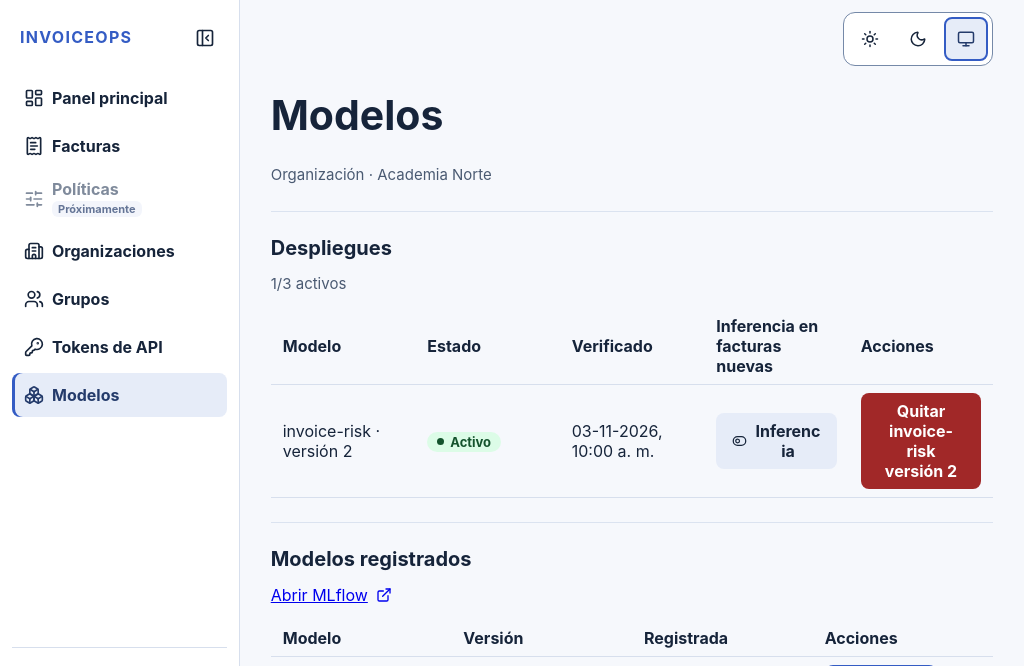
it: MLOPS-05 models and deployments › asks before removing a deployment and keeps it in the history
The image size is (1024, 666).
Expected: the heading "Modelos" is shown, [271,90,443,140]
Click the button "Quitar invoice-risk versión 2" at (921, 441), box [861,393,981,489]
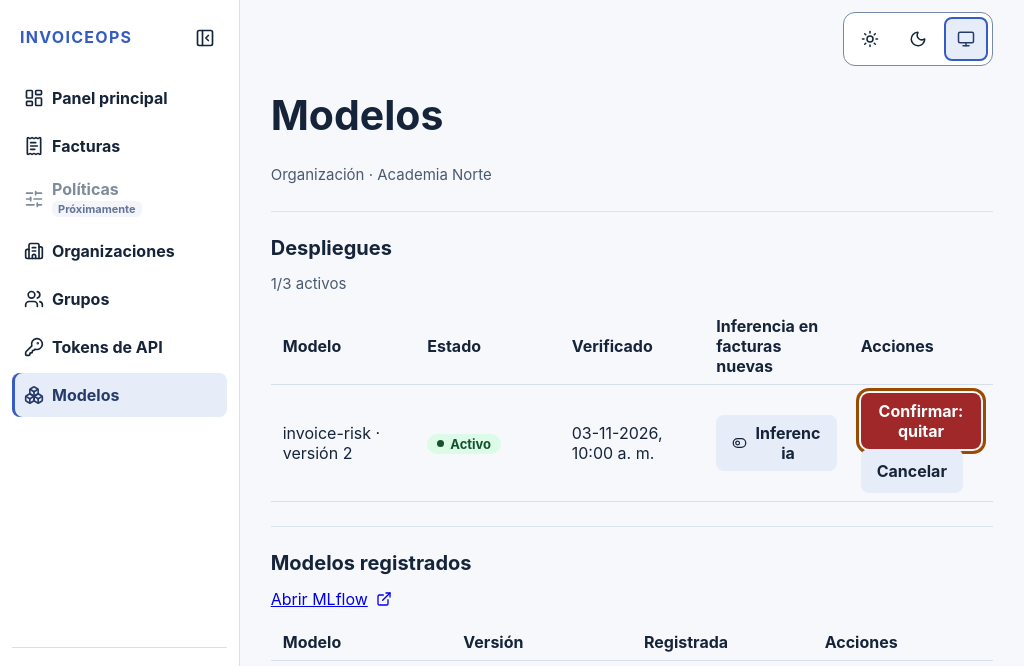
Click the button "Confirmar: quitar" at (921, 421), box [861,393,981,449]
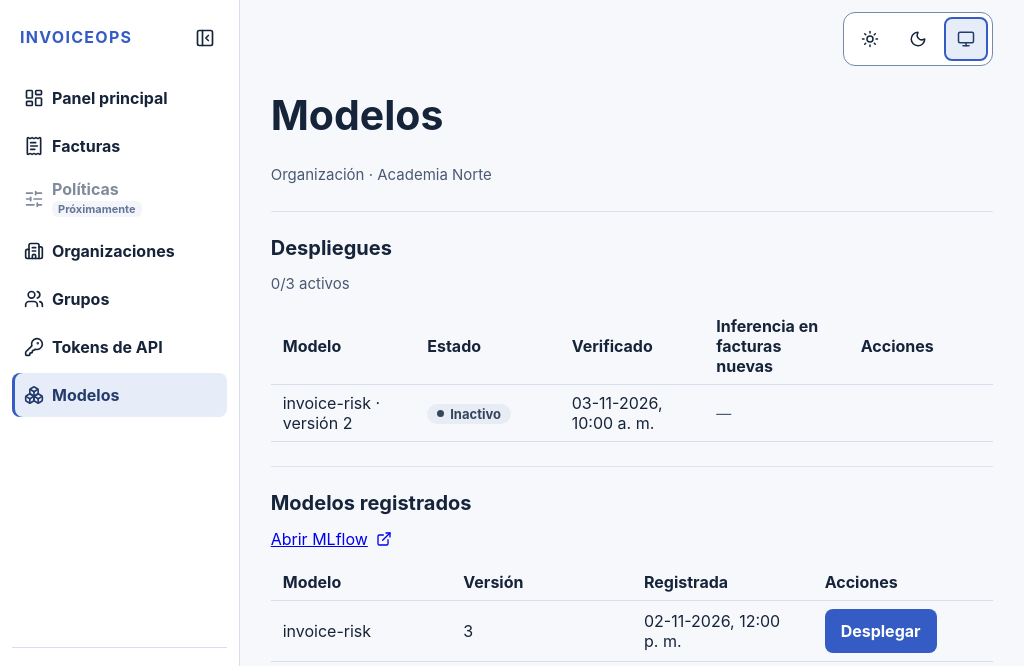
Expected: the button "Quitar" is not shown
Expected: the text "Inactivo" is shown, [427,404,511,424]
